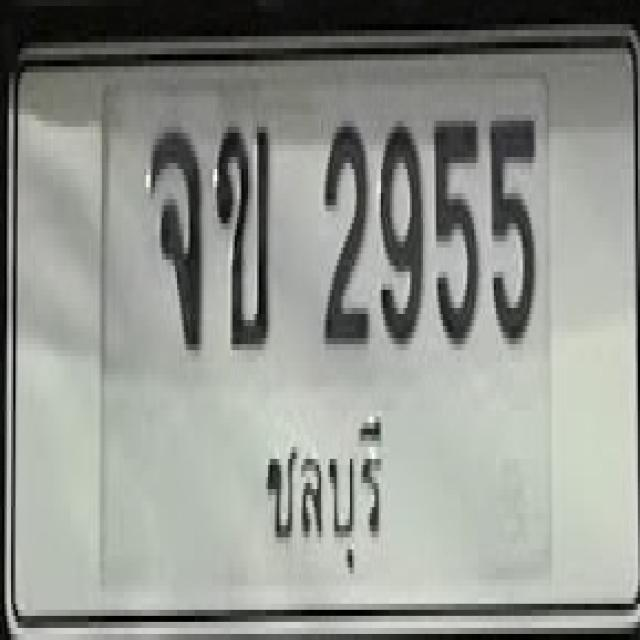license_plate: (7, 30, 640, 640)
